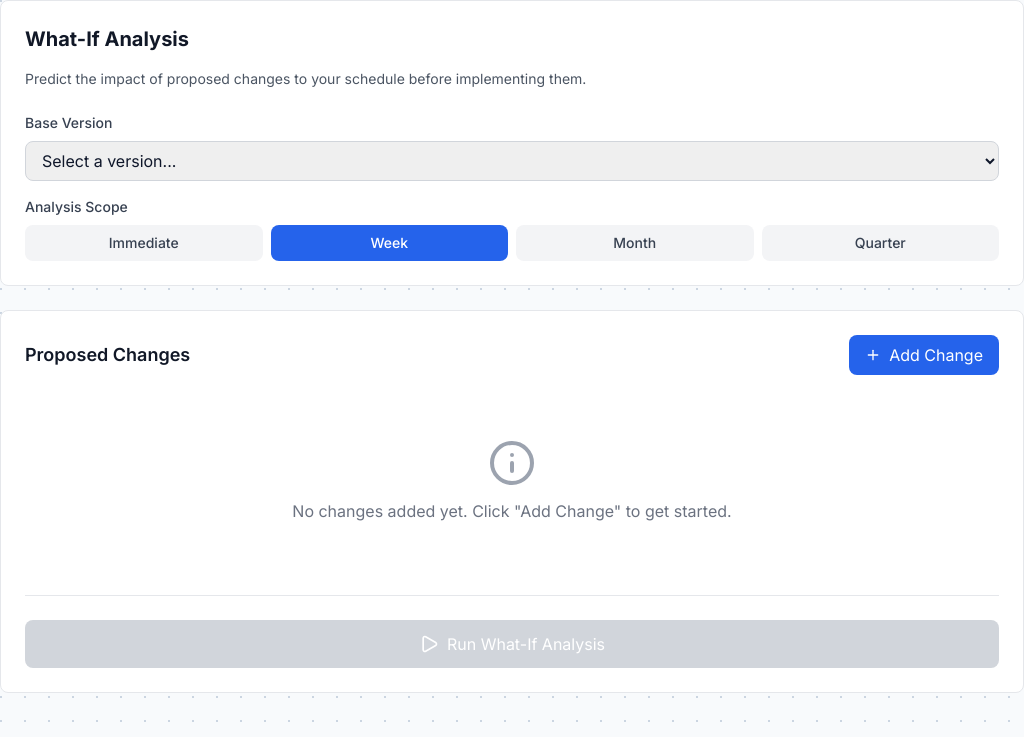
WhatIfAnalysis › Adding Changes › should allow removing a change
// Add a change
What coordinates should you click on to do the following:
click the button "Add Change"
I would click on:
 (924, 355)
Its box is [849,335,999,375].
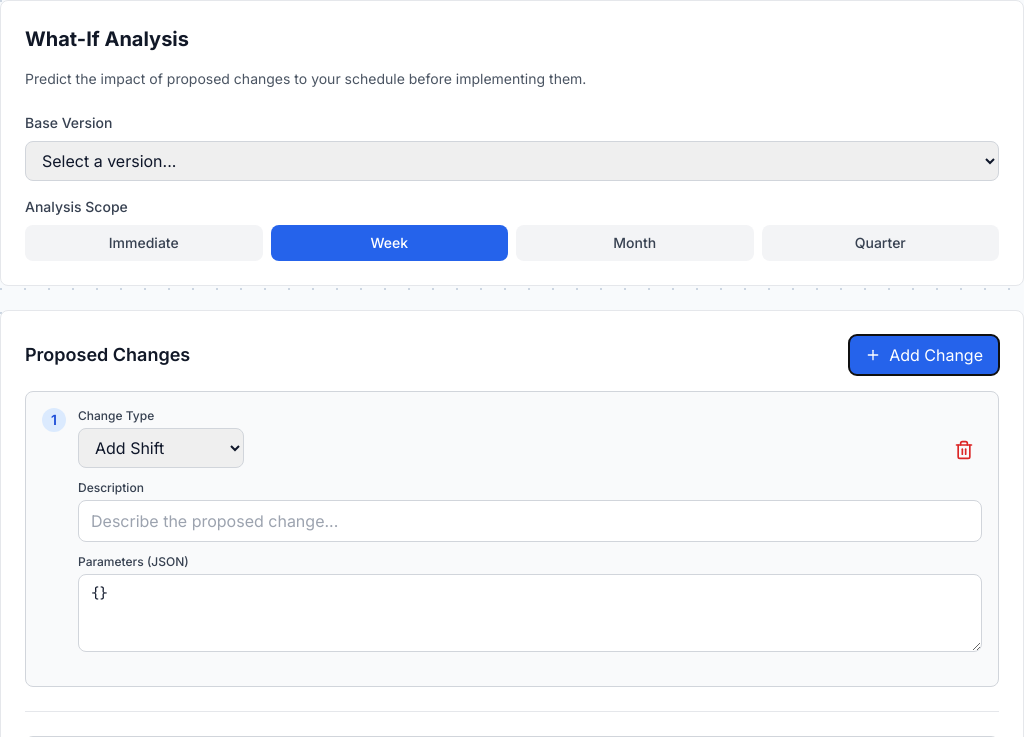
Check: the text "Change Type" is shown, box [78,408,154,423]
// Remove the change
What coordinates should you click on to do the following:
click the button titled "Remove change"
I would click on:
 (964, 450)
Its box is [946,432,982,468].
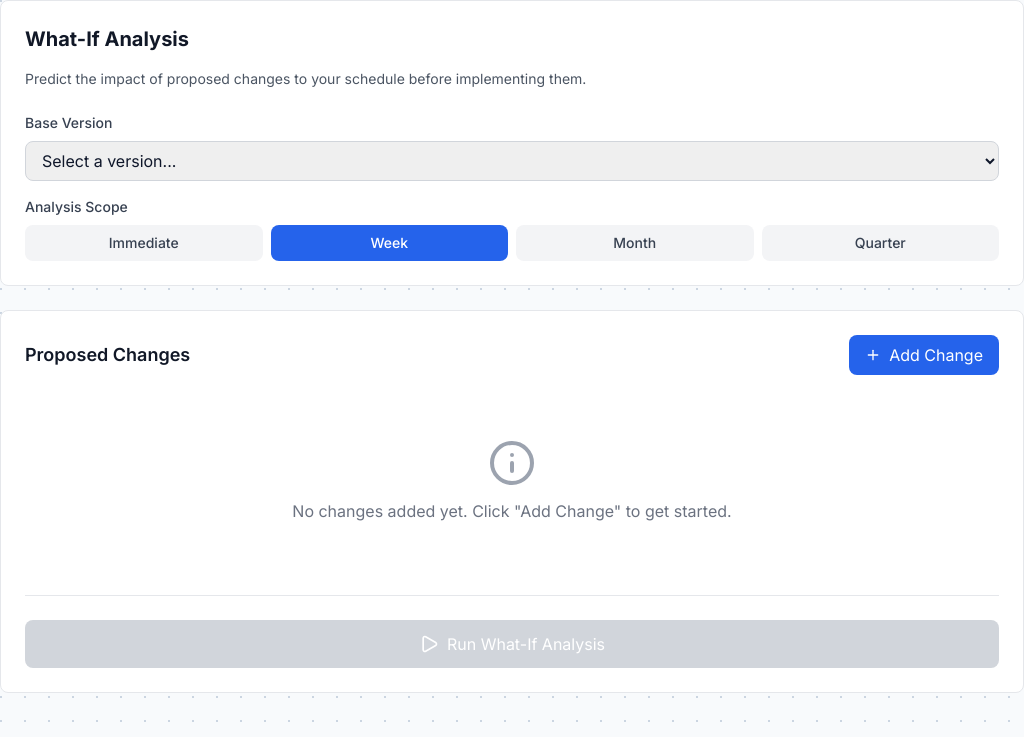
Check: the text "Change Type" is gone
Check: the text "No changes added yet. Click \"Add Change\" to get started." is shown, box [292,501,732,521]
